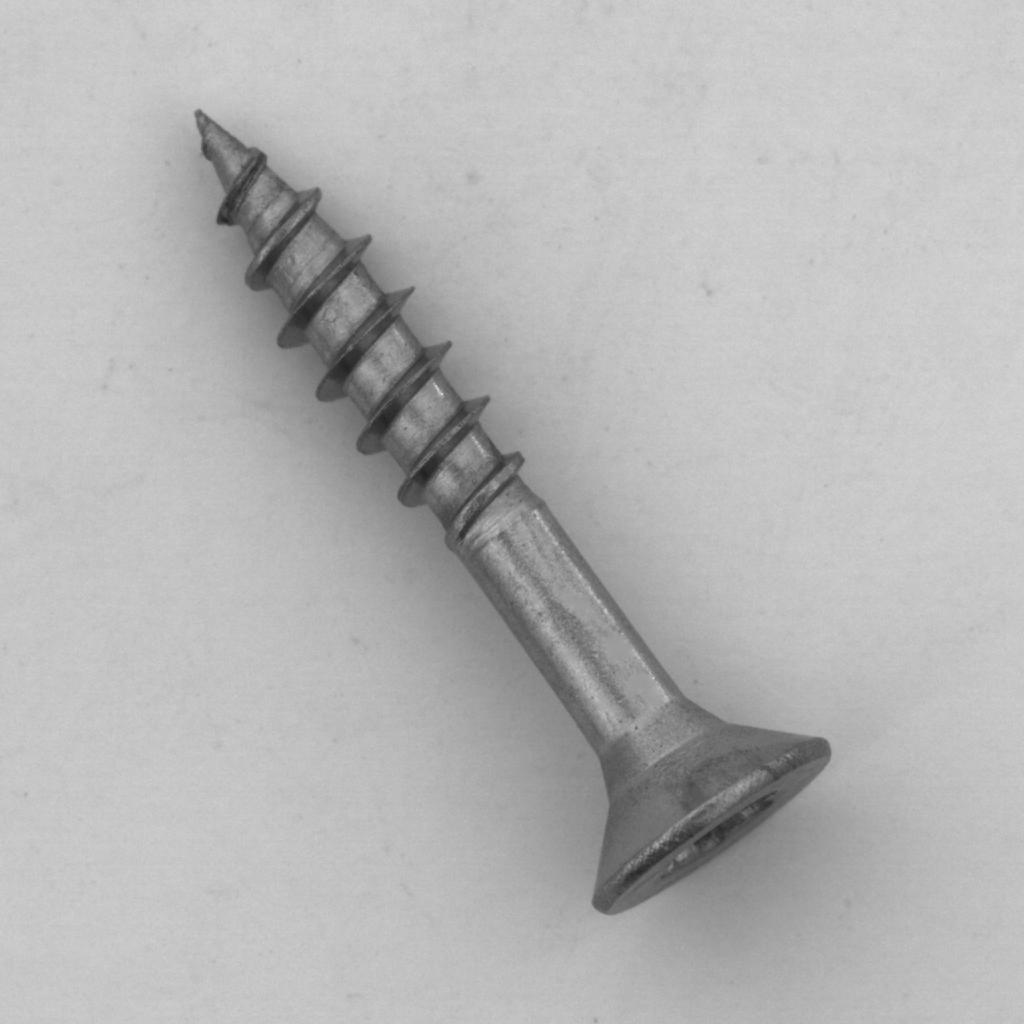good: (175, 92, 849, 926)
